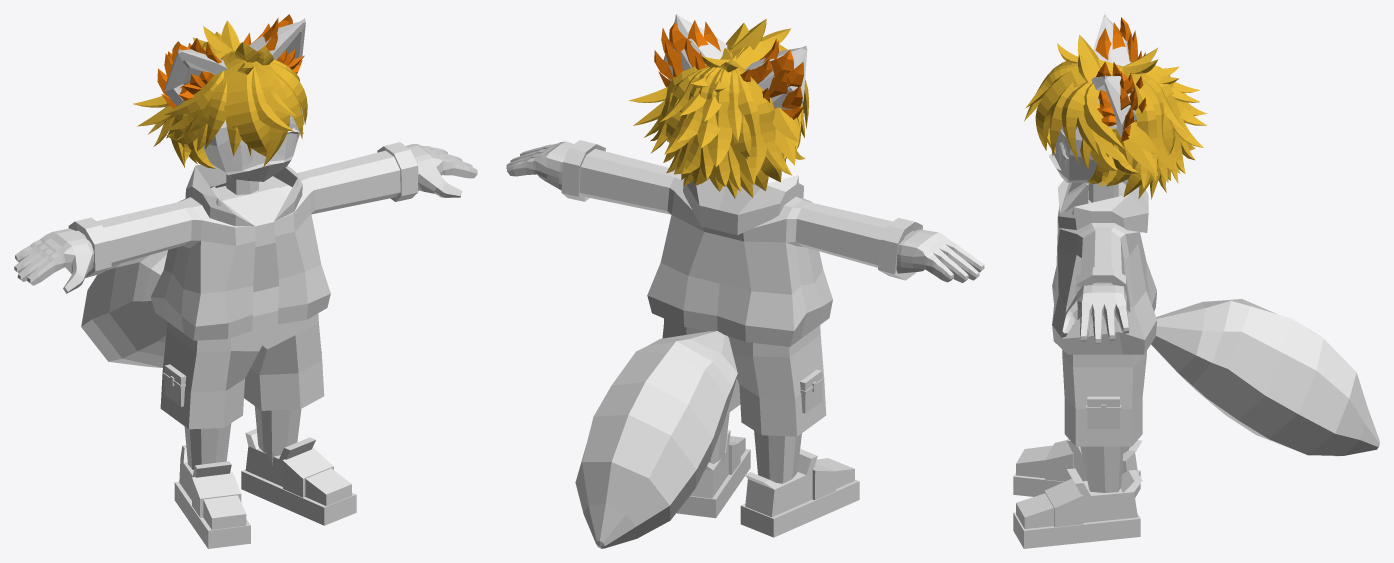
File: WuroCoon_V2_UV.fbx
The picture shows the model from 3 angles, left to right: view 1: azimuth 30°, elevation 25°; view 2: azimuth 150°, elevation 25°; view 3: azimuth 270°, elevation 25°; orthographic projection. The views are drawn at different scales.
Parts seen in each view (by area): view 1: Cloth, Body, Hairs, Face; view 2: Cloth, Body, Hairs, Face; view 3: Cloth, Body, Hairs, Face.
Boxes of the visible parts, bbox=[...] form: Cloth: bbox=[68, 142, 418, 548]; Body: bbox=[14, 144, 477, 469]; Hairs: bbox=[133, 14, 307, 168]; Face: bbox=[164, 18, 305, 181]; Cloth: bbox=[561, 140, 922, 537]; Body: bbox=[506, 141, 984, 548]; Hairs: bbox=[629, 19, 808, 198]; Face: bbox=[663, 14, 807, 116]; Cloth: bbox=[1013, 180, 1156, 548]; Body: bbox=[1060, 182, 1379, 492]; Hairs: bbox=[1024, 17, 1206, 199]; Face: bbox=[1049, 14, 1136, 182].
Bounding box in the file's own units: 189 × 189 × 133.
